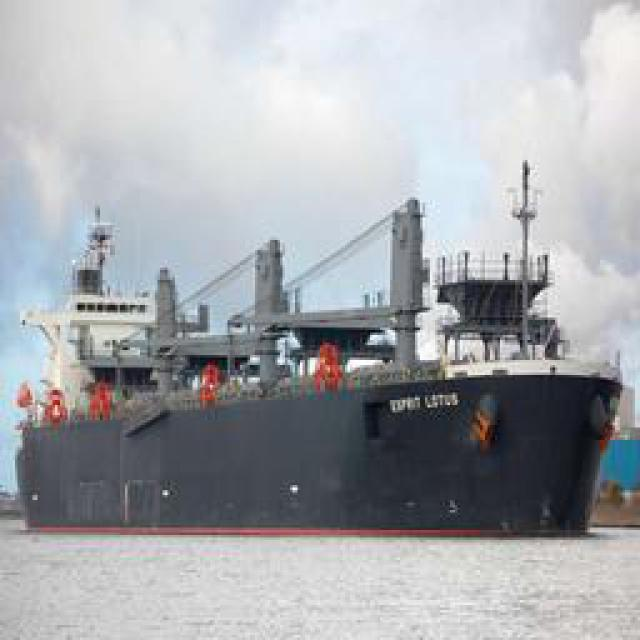Ship: (16, 181, 640, 552)
